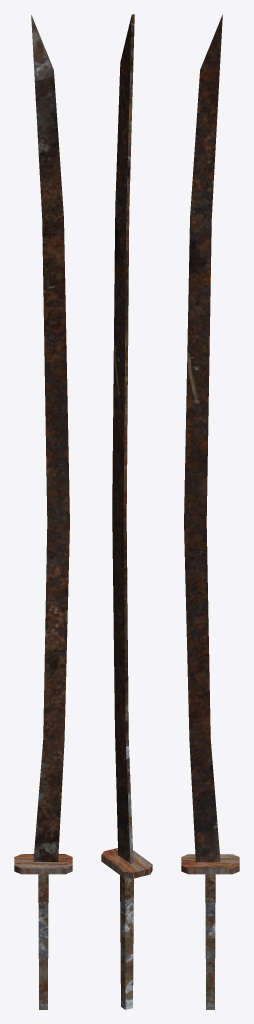
File: Malenia Sword.fbx
3 views of the same model, side by side, from view 1: azimuth 90°, elevation 25°; view 2: azimuth 210°, elevation 25°; view 3: azimuth 270°, elevation 25° (orthographic).
Parts seen in each view (by area): view 1: Cube; view 2: Cube; view 3: Cube.
Boxes of the visible parts, x1,y1,x2,y2 form: Cube: [14, 15, 72, 1009]; Cube: [101, 14, 152, 1009]; Cube: [181, 15, 239, 1009].
Size of the model in its own units: 0.299 by 9.75 by 0.5186.
Materials: 1 (1 with a texture image).
